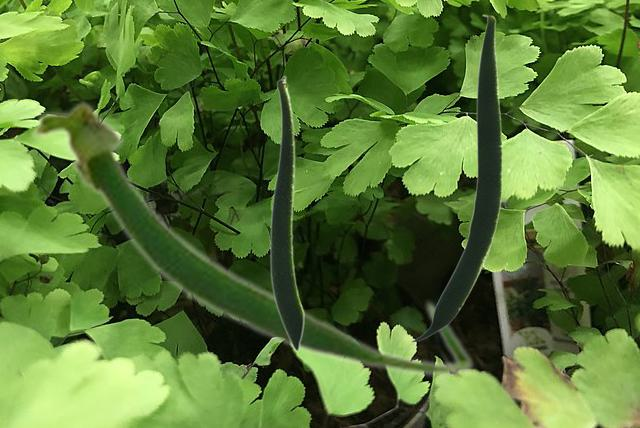french_bean: (29, 97, 475, 378), (410, 14, 501, 341), (269, 75, 304, 351)
